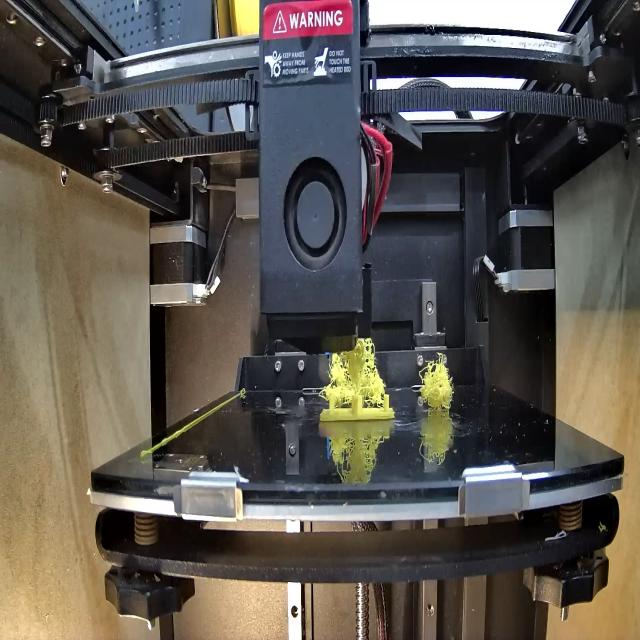spaghetti: (323, 338, 390, 402), (416, 350, 456, 412)
